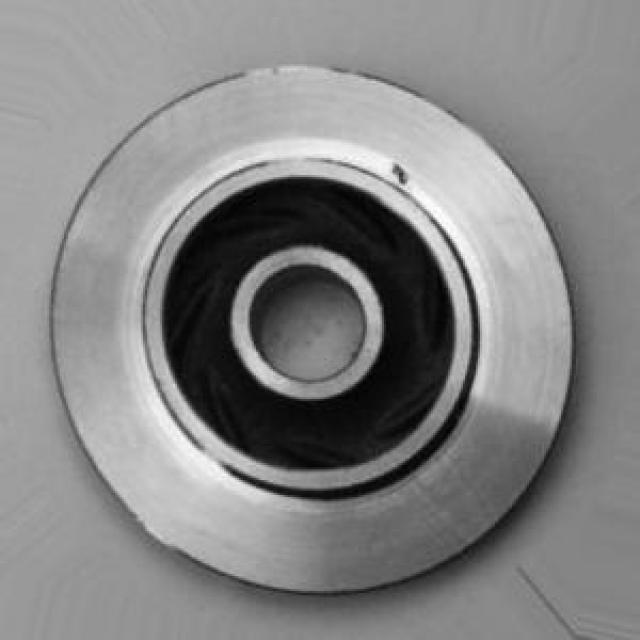Defect: (390, 150, 420, 192)
